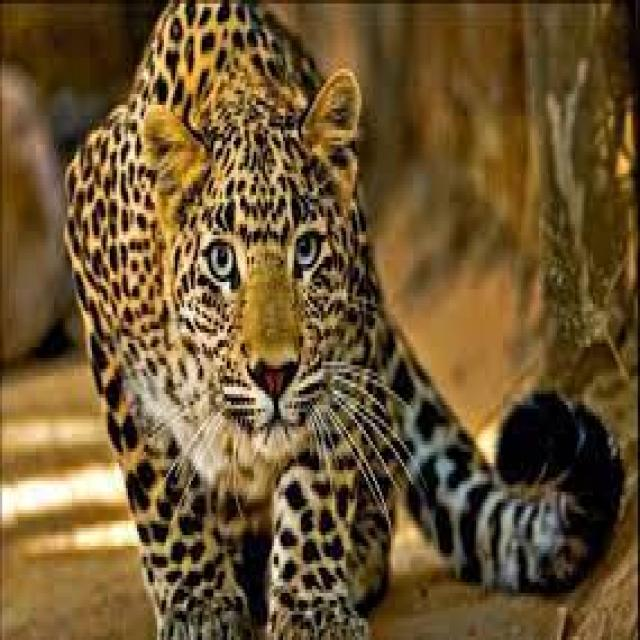Jaguar: (67, 0, 584, 626)
